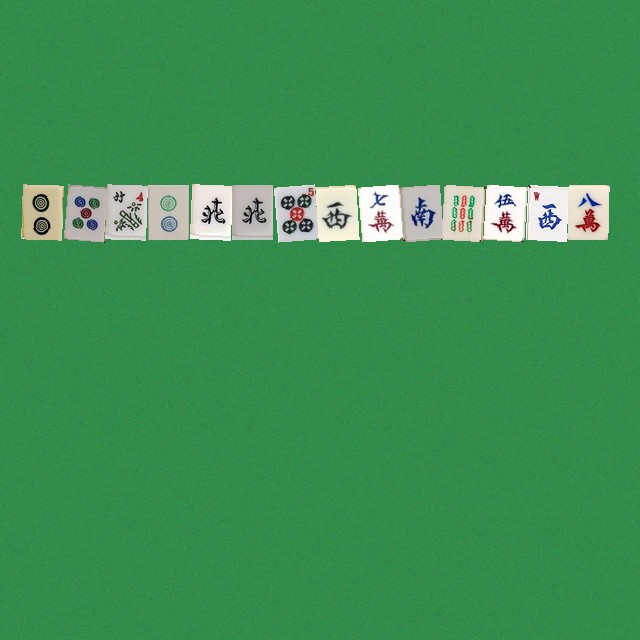tile: (21, 184, 62, 239), (63, 184, 104, 239), (105, 184, 146, 239), (147, 184, 188, 239), (189, 184, 230, 239), (231, 184, 272, 239), (273, 184, 314, 239), (315, 184, 356, 239), (357, 184, 398, 239), (399, 184, 440, 239), (441, 184, 482, 239), (483, 184, 524, 239), (525, 184, 566, 239), (567, 184, 608, 239)
